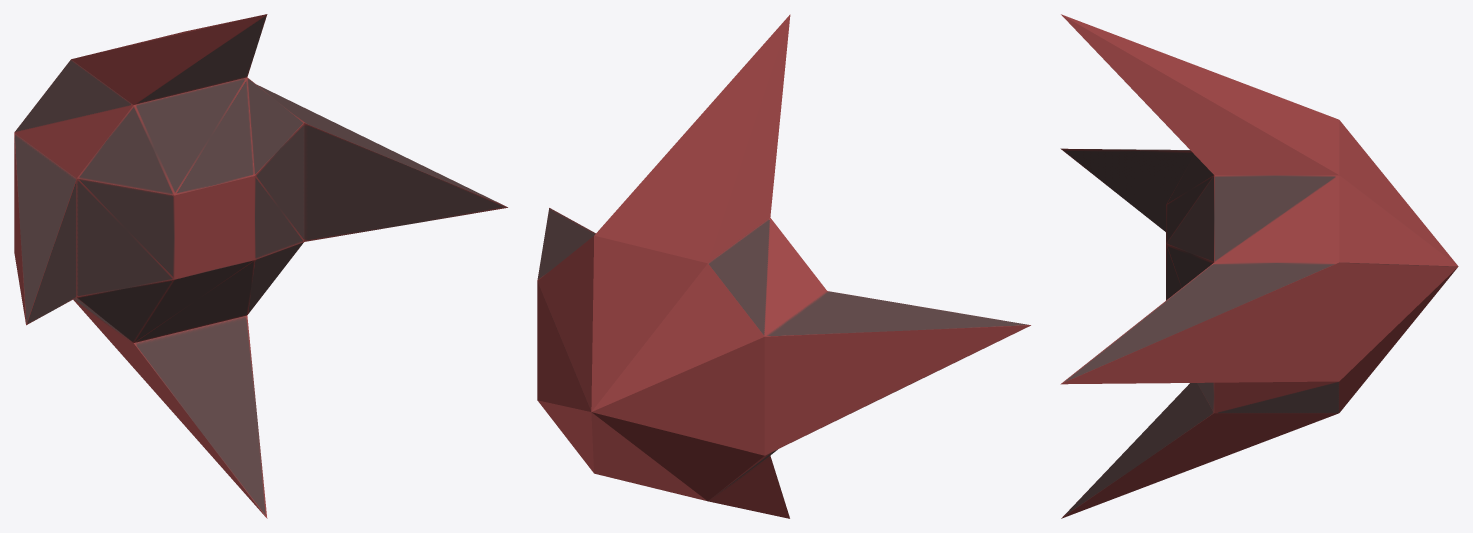
Rendered from enemy.obj.
The picture shows the model from 3 angles, left to right: view 1: azimuth 30°, elevation 25°; view 2: azimuth 150°, elevation 25°; view 3: azimuth 270°, elevation 25°; orthographic projection.
Parts seen in each view (by area): view 1: 立方体; view 2: 立方体; view 3: 立方体.
Boxes of the visible parts, x1,y1,x2,y2 form: 立方体: (14, 14, 507, 518); 立方体: (537, 14, 1030, 518); 立方体: (1060, 14, 1458, 518).
Size of the model in its own units: 1.56 by 1.56 by 1.12.
Materials: 1 (1 with a texture image).
